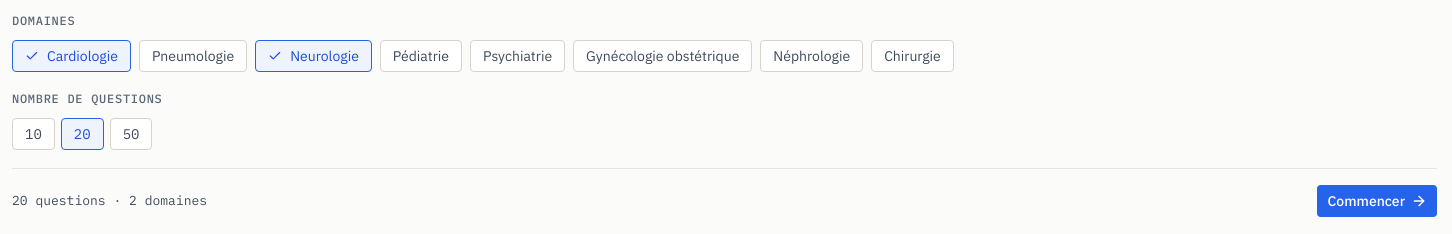
SeriesComposerDemo › sans domaine, « Commencer » est désactivé et ne mène nulle part
Click the button "Cardiologie". click: (71, 56)
box: [12,40,131,72]
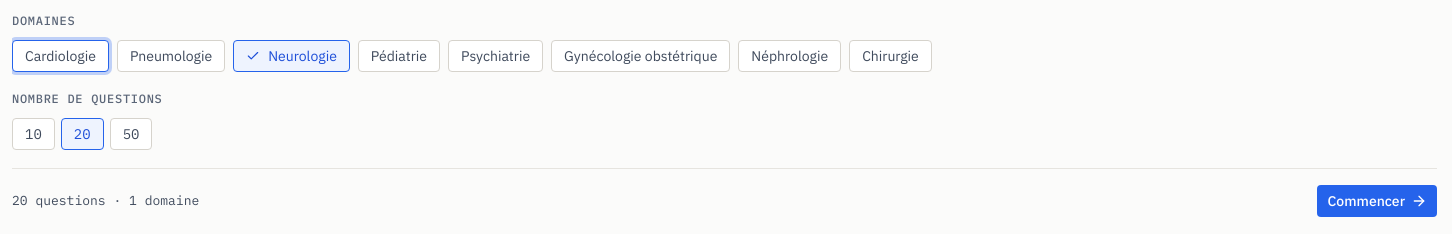
Click the button "Neurologie". click: (292, 56)
box: [233,40,350,72]
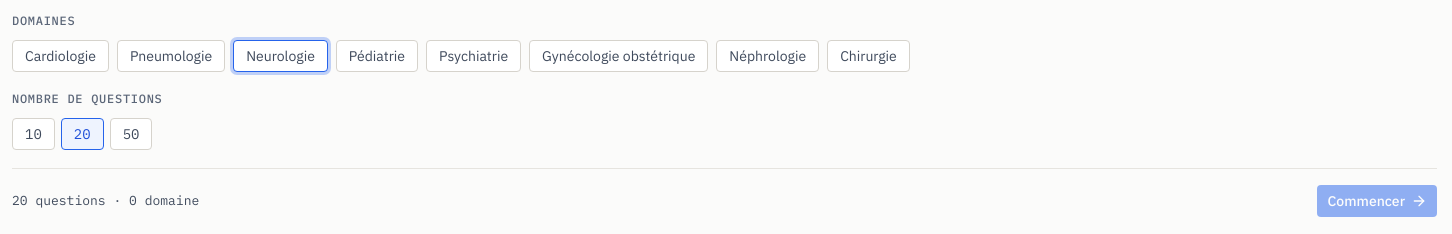
Expected: the button "Commencer" is disabled, [1318,185,1437,217]
Expected: the text "20 questions · 0 domaine" is shown, [12,191,199,211]
